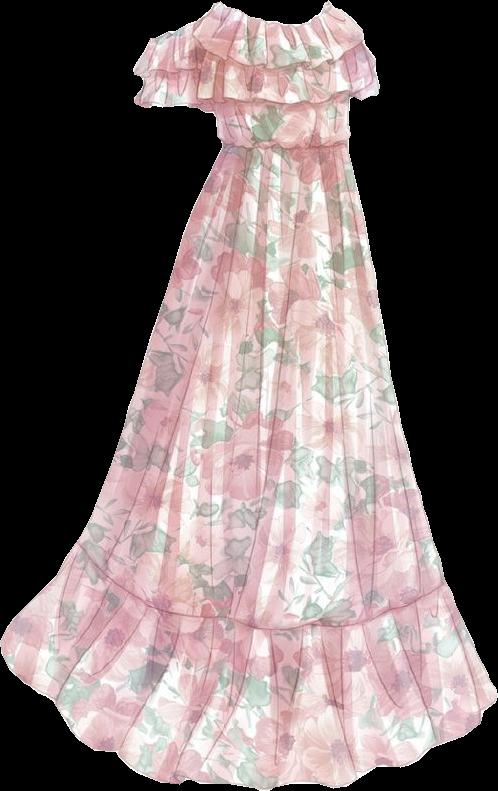Bodice: (190, 1, 372, 153)
Hemline: (0, 635, 497, 790)
Neckline: (215, 0, 333, 28)
Skirt: (1, 146, 497, 790)
Sleeve: (133, 15, 212, 112)
Sleeveline: (187, 3, 220, 106)
Waistline: (71, 544, 449, 635), (220, 139, 353, 163)
